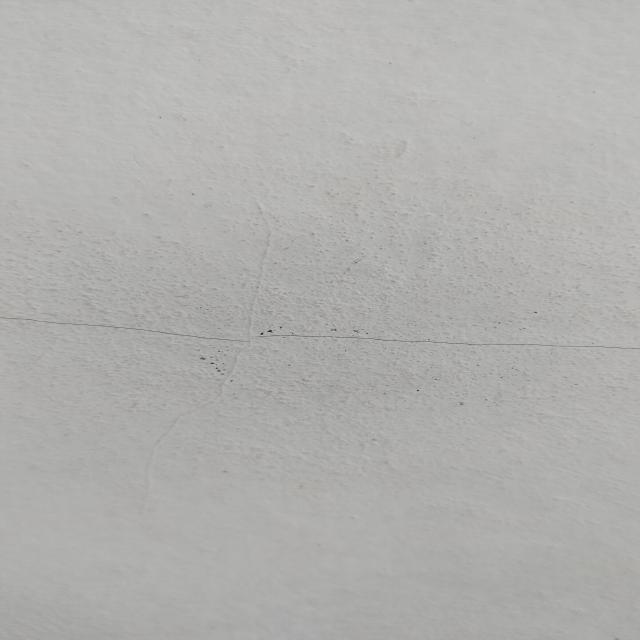Crack: (2, 313, 640, 354)
